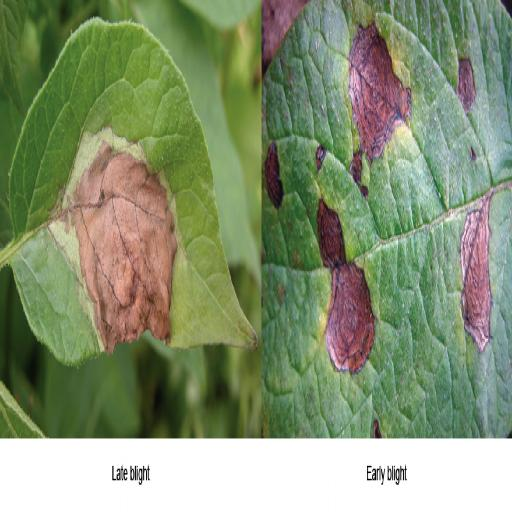disease_tomato: (263, 0, 511, 435), (0, 13, 258, 374)
